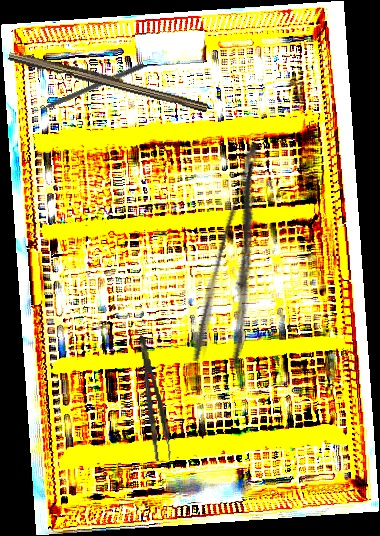Dressing Forceps: (187, 139, 296, 373)
Pusher: (24, 61, 146, 118)
Scalpel Handle: (7, 48, 210, 113)
Tissue Forceps: (137, 334, 173, 462)
